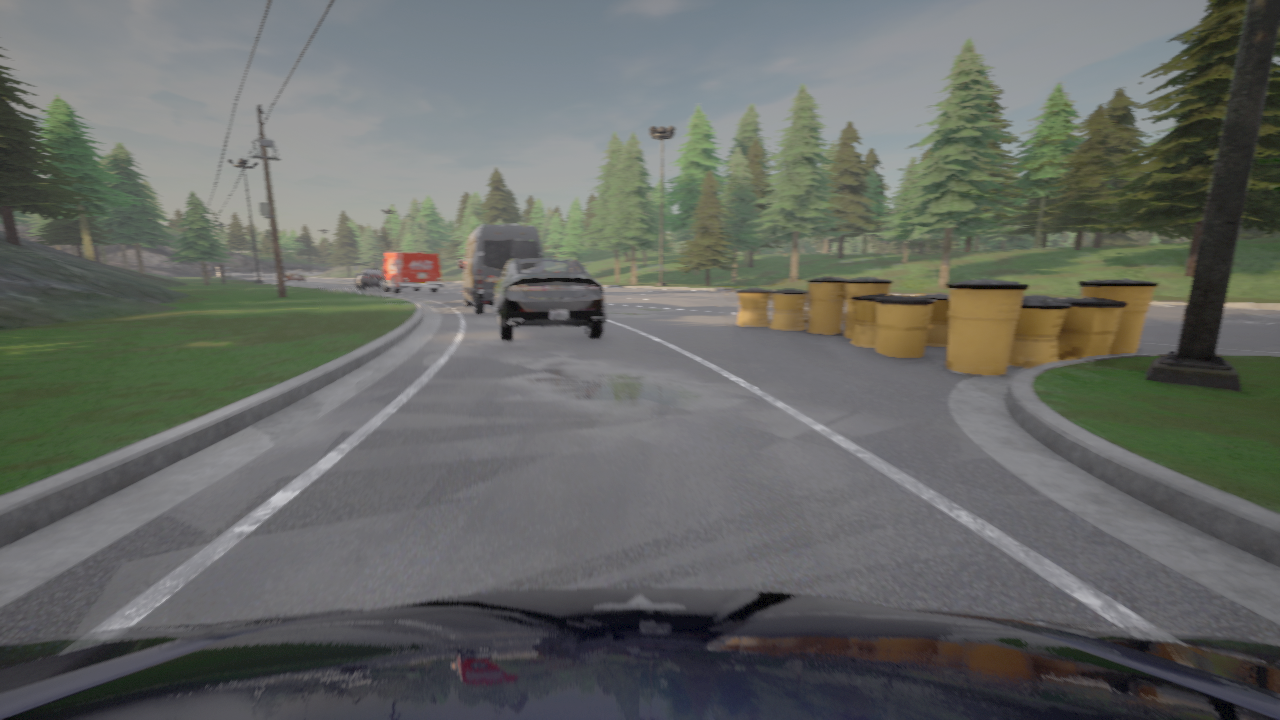cyclist: (0, 588, 1279, 719), (487, 257, 605, 341), (458, 223, 544, 313), (375, 252, 444, 293), (355, 268, 381, 289), (284, 271, 305, 282)
